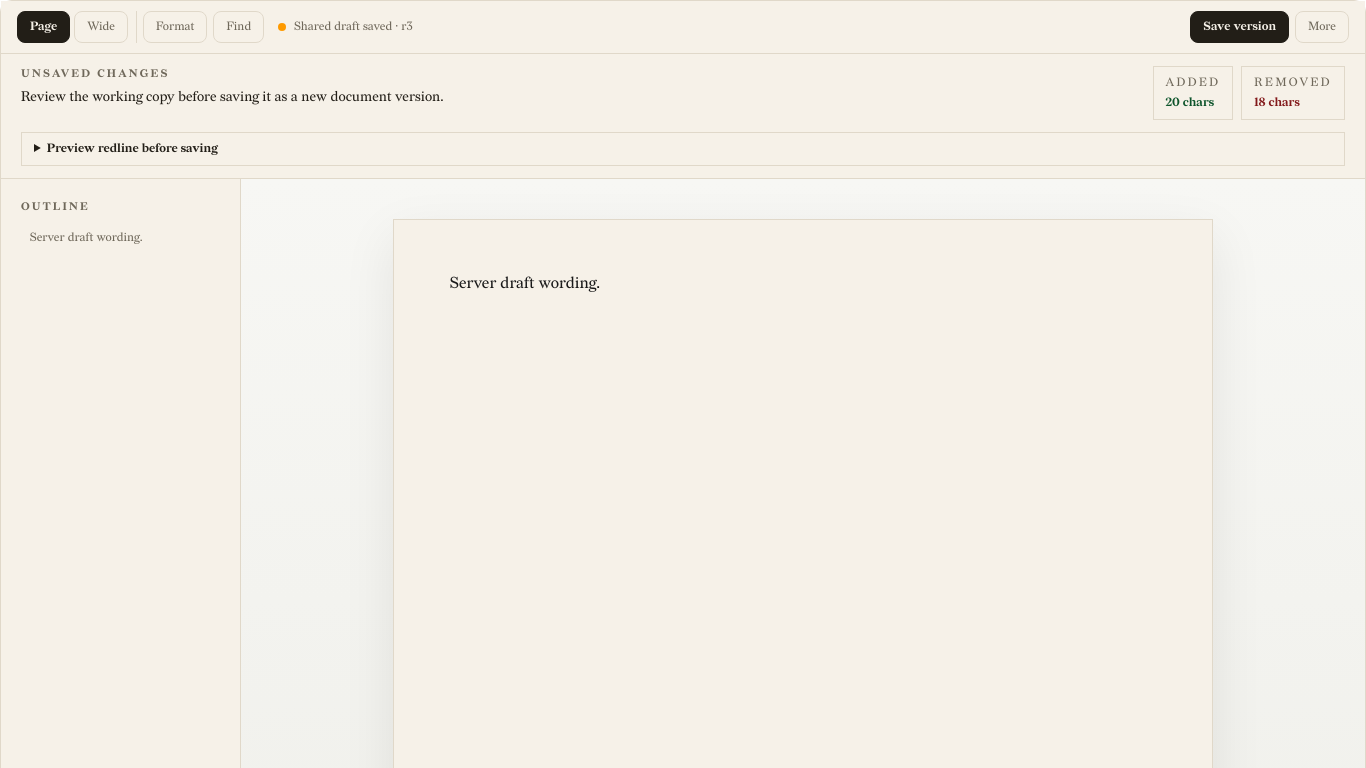
Test: DocumentRichEditor surface › surfaces shared-draft conflicts when saving a version
Check: the text box "Server draft wording." is shown, box x1=450 y1=274 x2=600 y2=293
Click the button "Save version".
click(1240, 27)  # box x1=1190 y1=11 x2=1289 y2=43
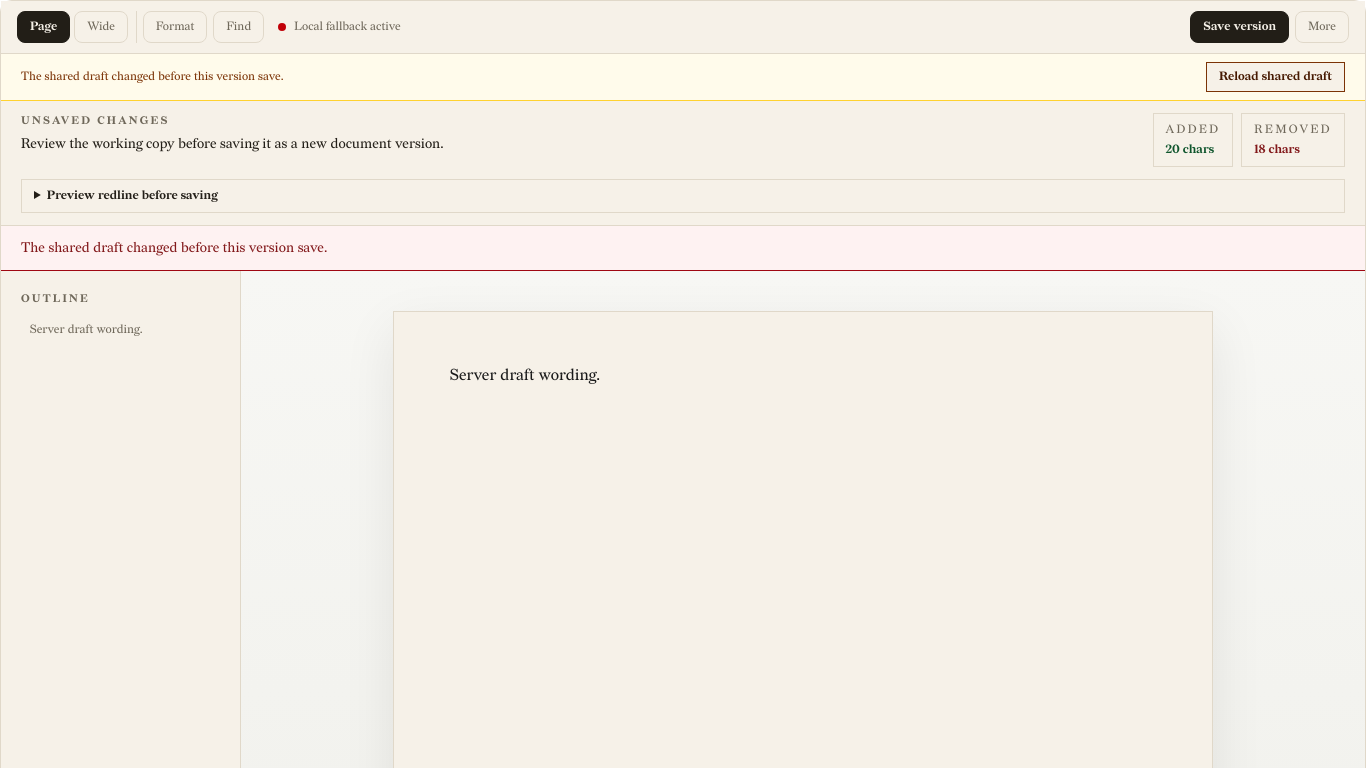
Check: the element with test id "document-server-draft-error" shows "The shared draft changed before this version save.", box x1=21 y1=69 x2=284 y2=84
Click the button "Reload shared draft".
click(1276, 77)  # box x1=1206 y1=62 x2=1345 y2=92
(page scrolled)
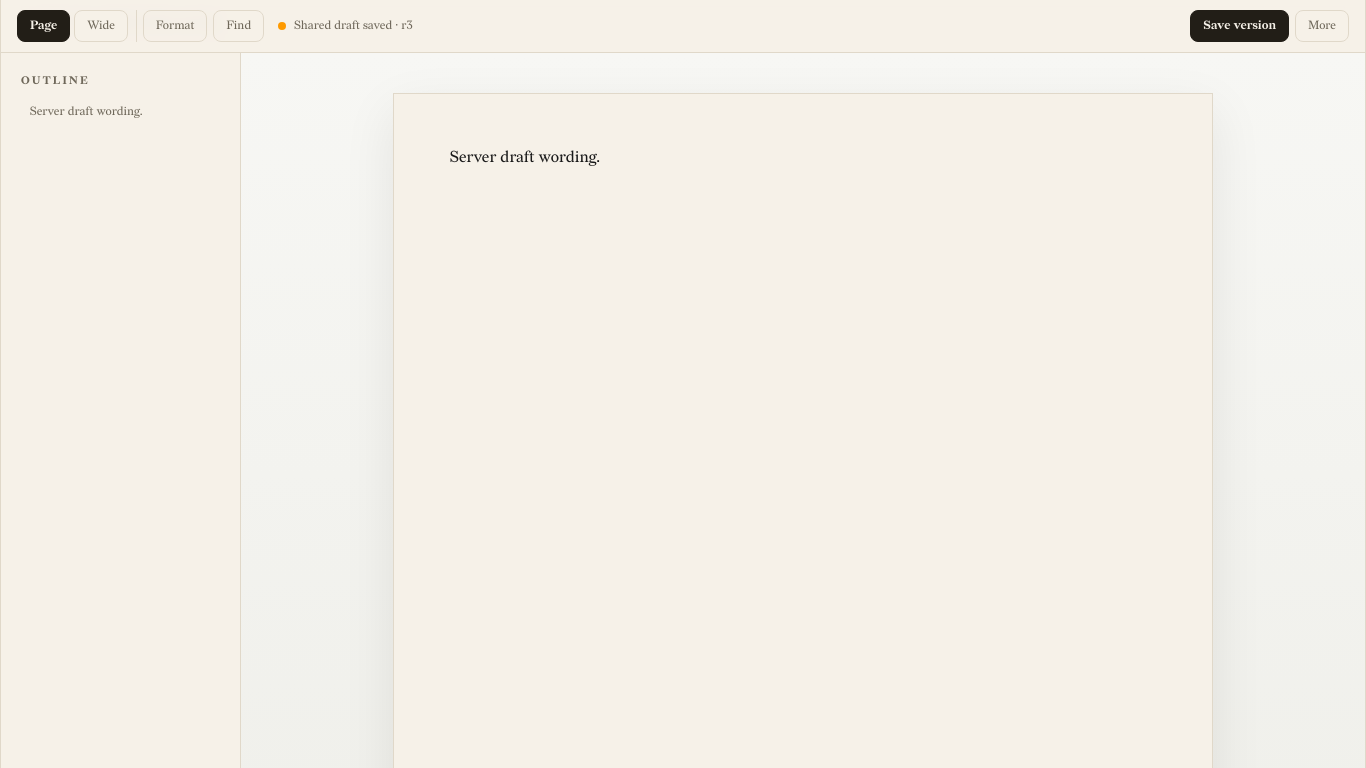
Check: the element with test id "document-server-draft-error" is gone
Check: the element with test id "document-editor" shows "Shared draft saved · r3", box x1=294 y1=18 x2=413 y2=33
